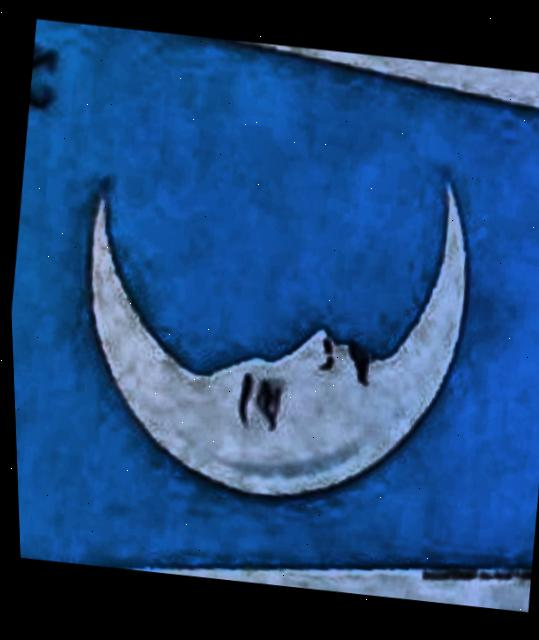La Luna: (9, 20, 539, 571)
